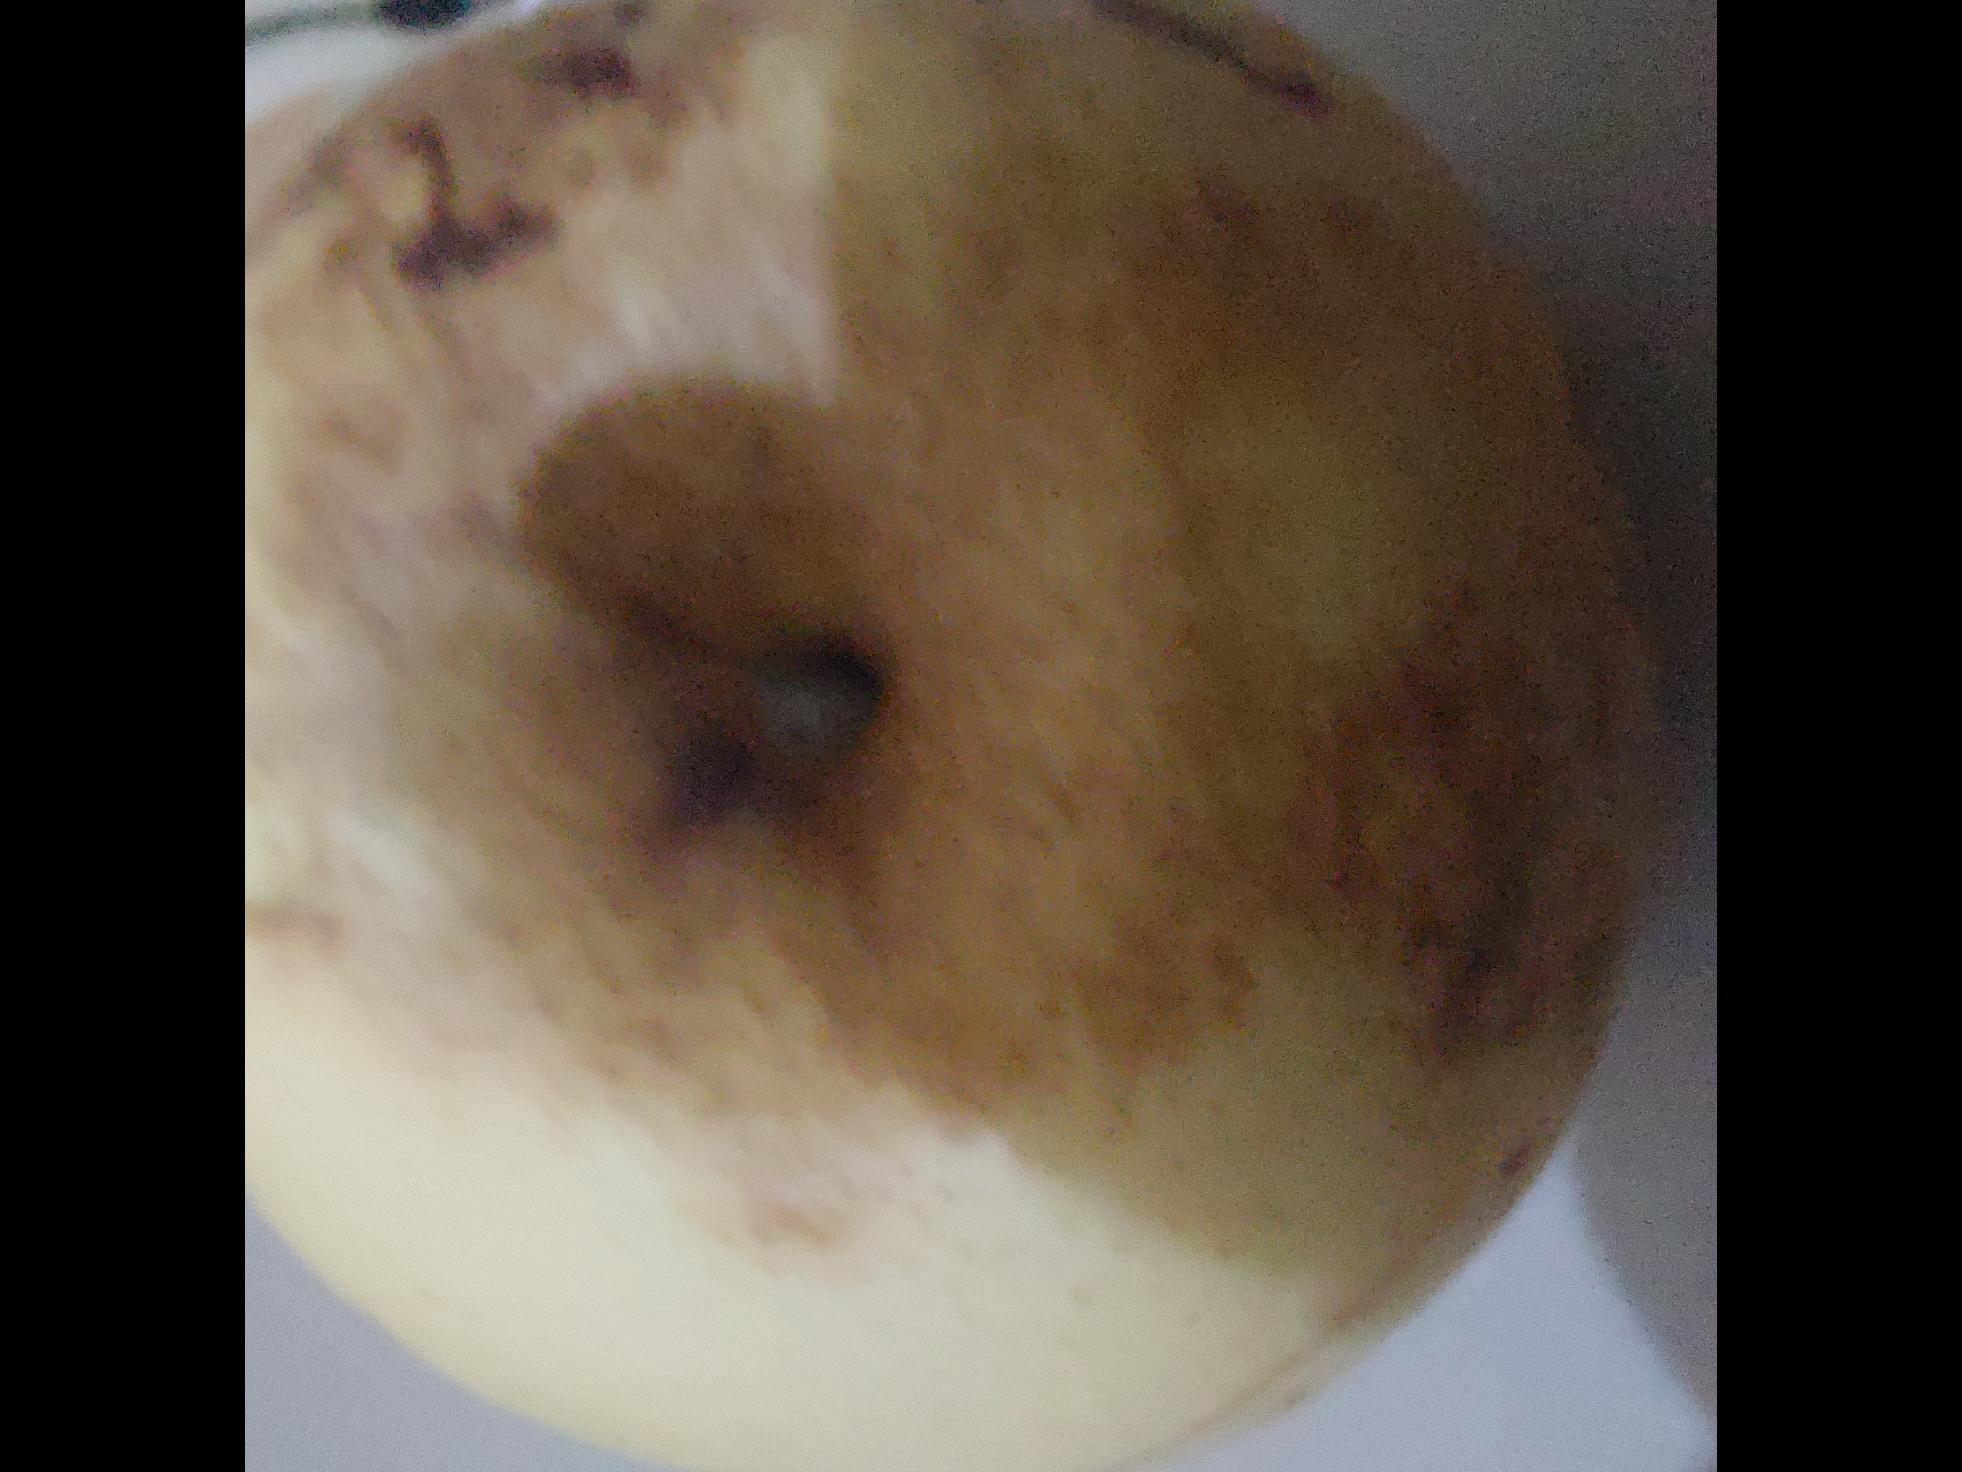Bad Pear: (244, 0, 1657, 1472)
